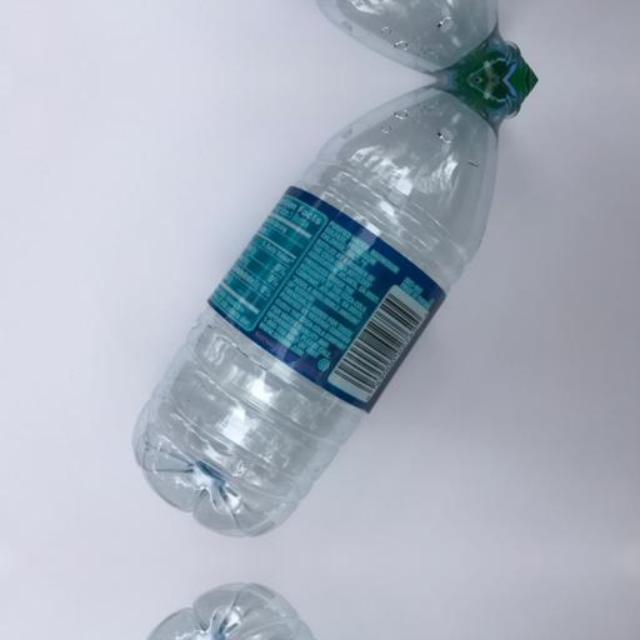Plastic: (90, 80, 592, 548), (90, 0, 591, 80), (90, 572, 591, 640)
